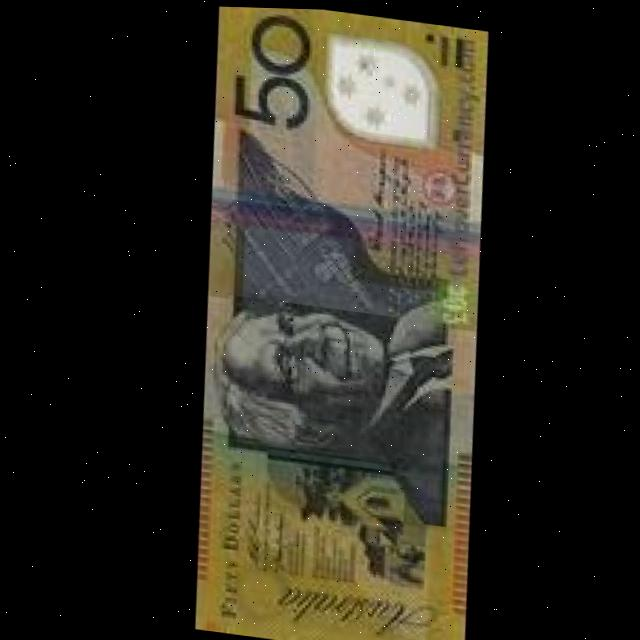banknote: (147, 3, 520, 640)
